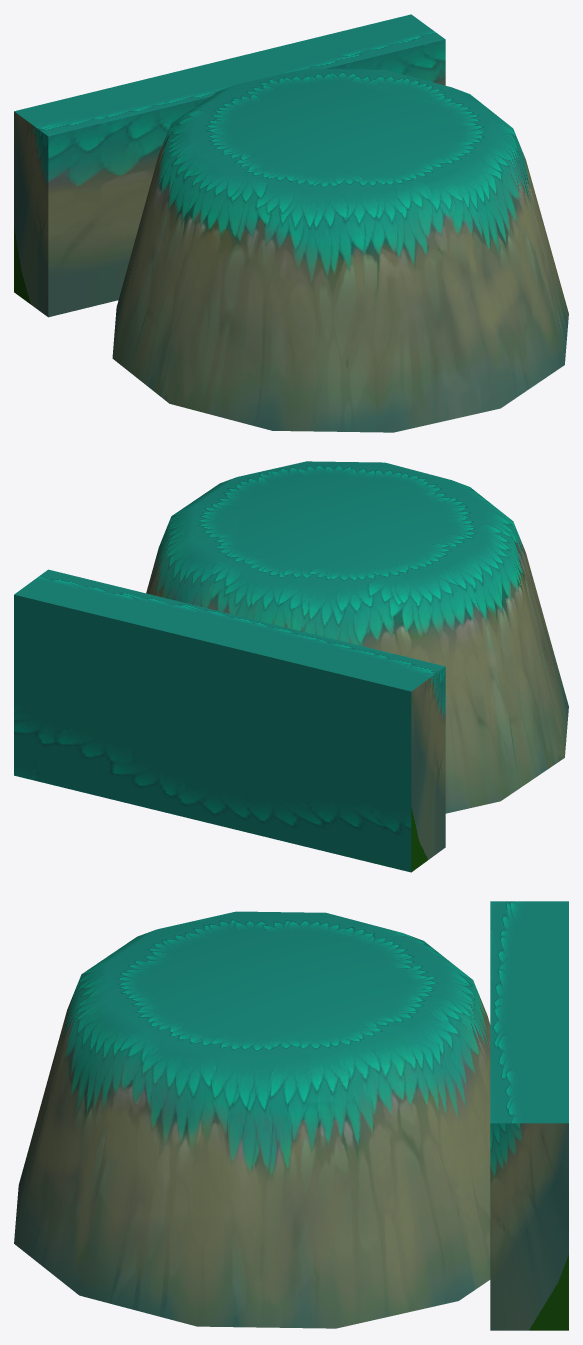
File: STN_C.fbx
3 renders of one model, top to bottom at view 1: azimuth 30°, elevation 25°; view 2: azimuth 150°, elevation 25°; view 3: azimuth 270°, elevation 25°, orthographic. The views are drawn at different scales.
Parts seen in each view (by area): view 1: stoneB, pCube1; view 2: pCube1, stoneB; view 3: stoneB, pCube1.
Boxes of the visible parts, x1,y1,x2,y2 form: stoneB: (112, 68, 568, 432); pCube1: (14, 14, 445, 317); pCube1: (14, 569, 445, 872); stoneB: (146, 461, 568, 813); stoneB: (14, 911, 490, 1328); pCube1: (490, 901, 568, 1330).
Size of the model in its own units: 152 by 75.51 by 161.
